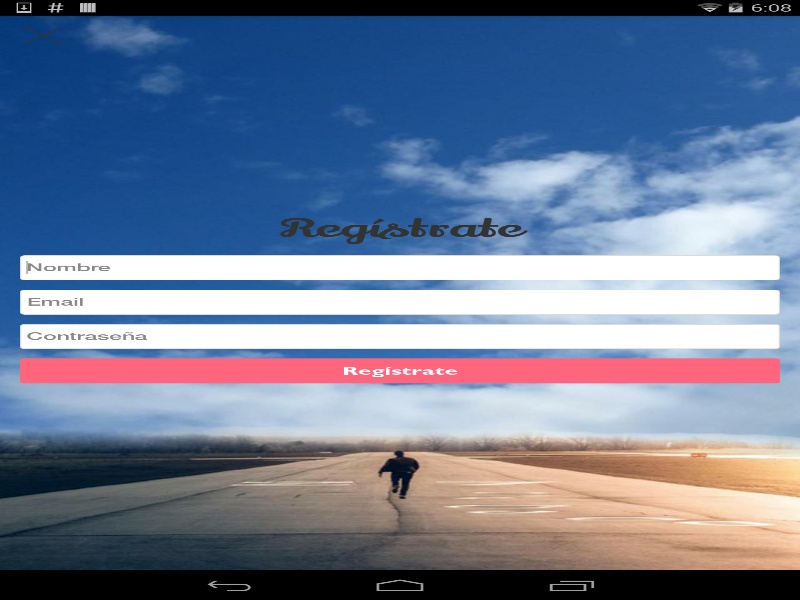Button: (20, 358, 780, 383)
Input: (20, 255, 780, 280), (20, 289, 780, 314), (20, 324, 780, 349)
